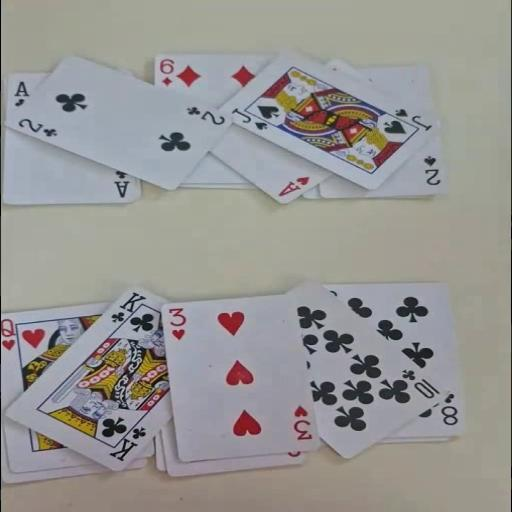10: (399, 367, 442, 399)
2: (15, 116, 59, 138), (184, 104, 227, 126), (421, 154, 442, 186)
3: (290, 403, 314, 441), (166, 305, 187, 341)
6: (157, 57, 175, 87)
A: (276, 174, 312, 198), (112, 168, 131, 198), (12, 79, 31, 107)
J: (391, 106, 434, 132), (229, 106, 269, 131)
K: (105, 419, 148, 462), (107, 290, 148, 328)
Q: (0, 316, 16, 352)
